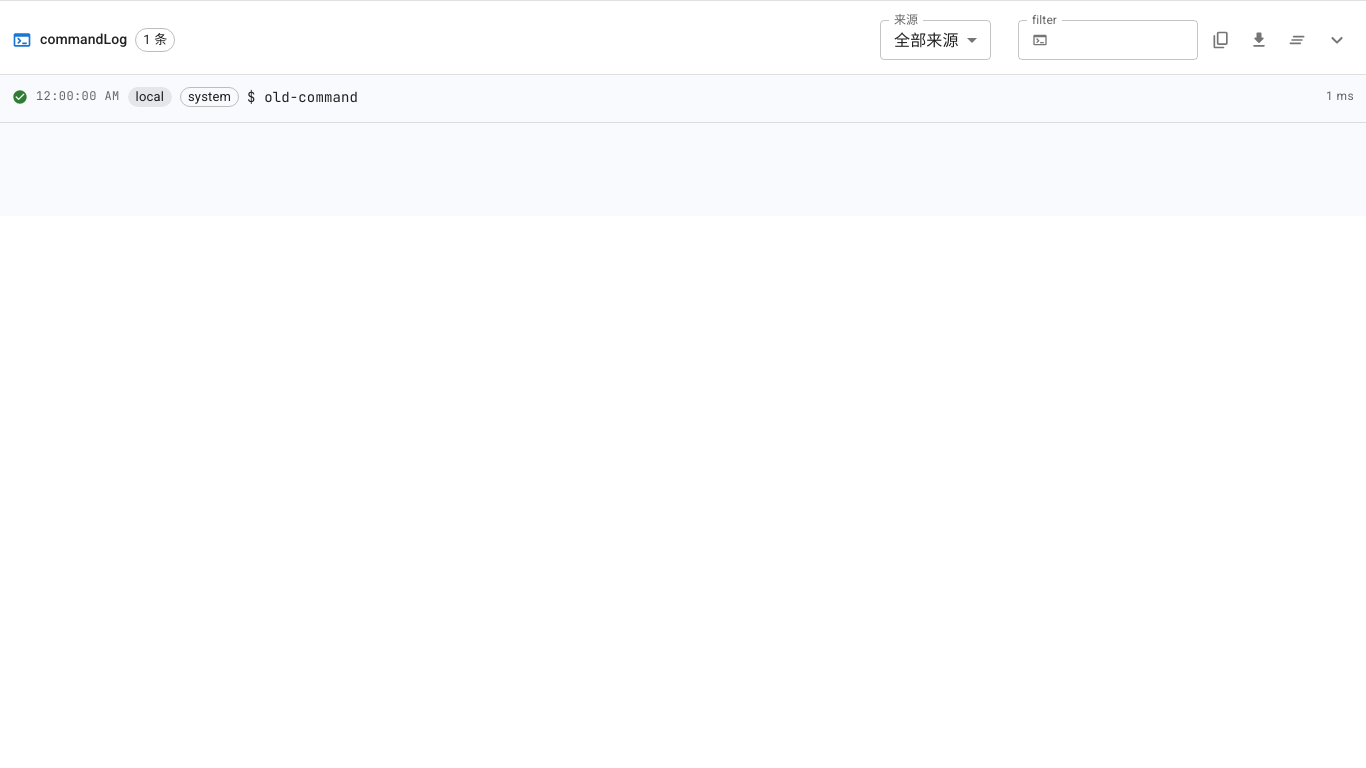
it: command details › shows a failed clear inside the confirmation dialog and retains history
Click the button named "永久清空": click(1297, 40) [1282, 25, 1312, 55]
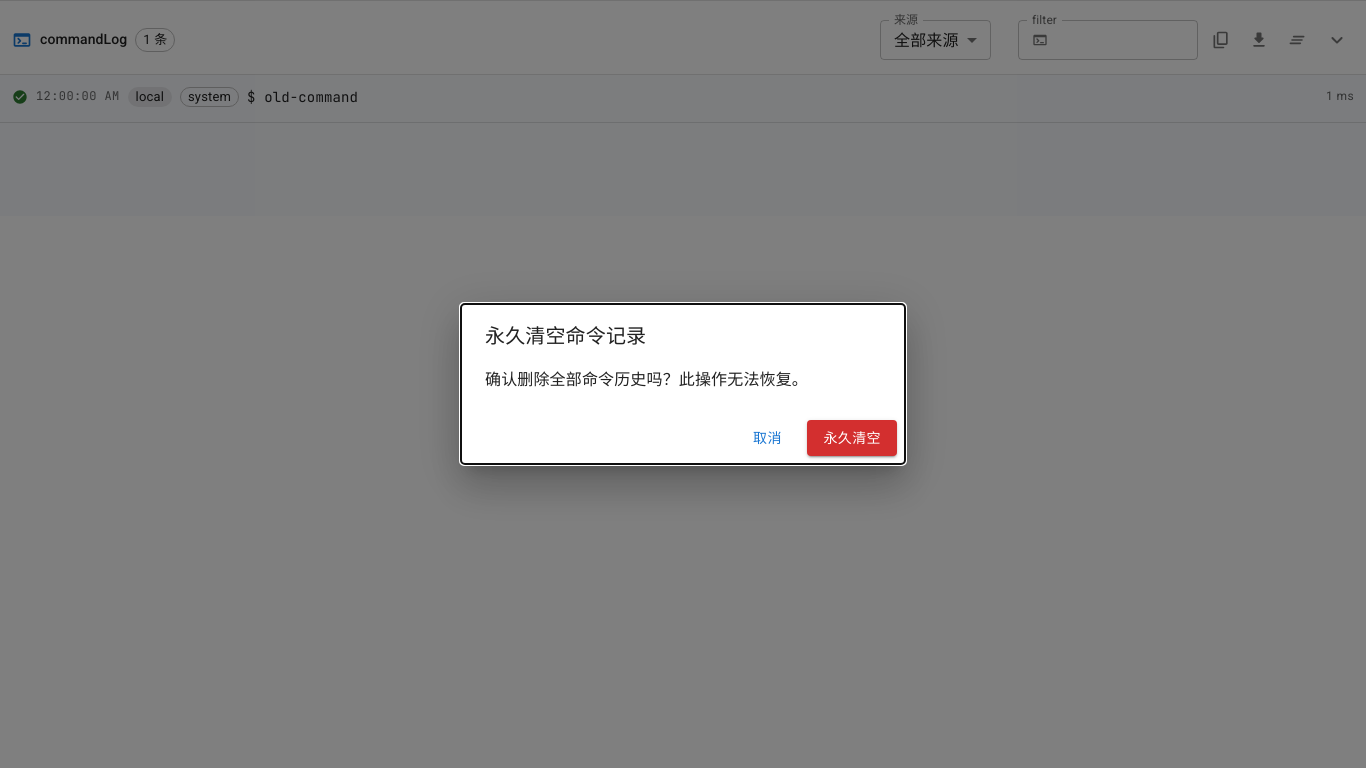
Click the button "永久清空": click(852, 438) [807, 420, 897, 456]
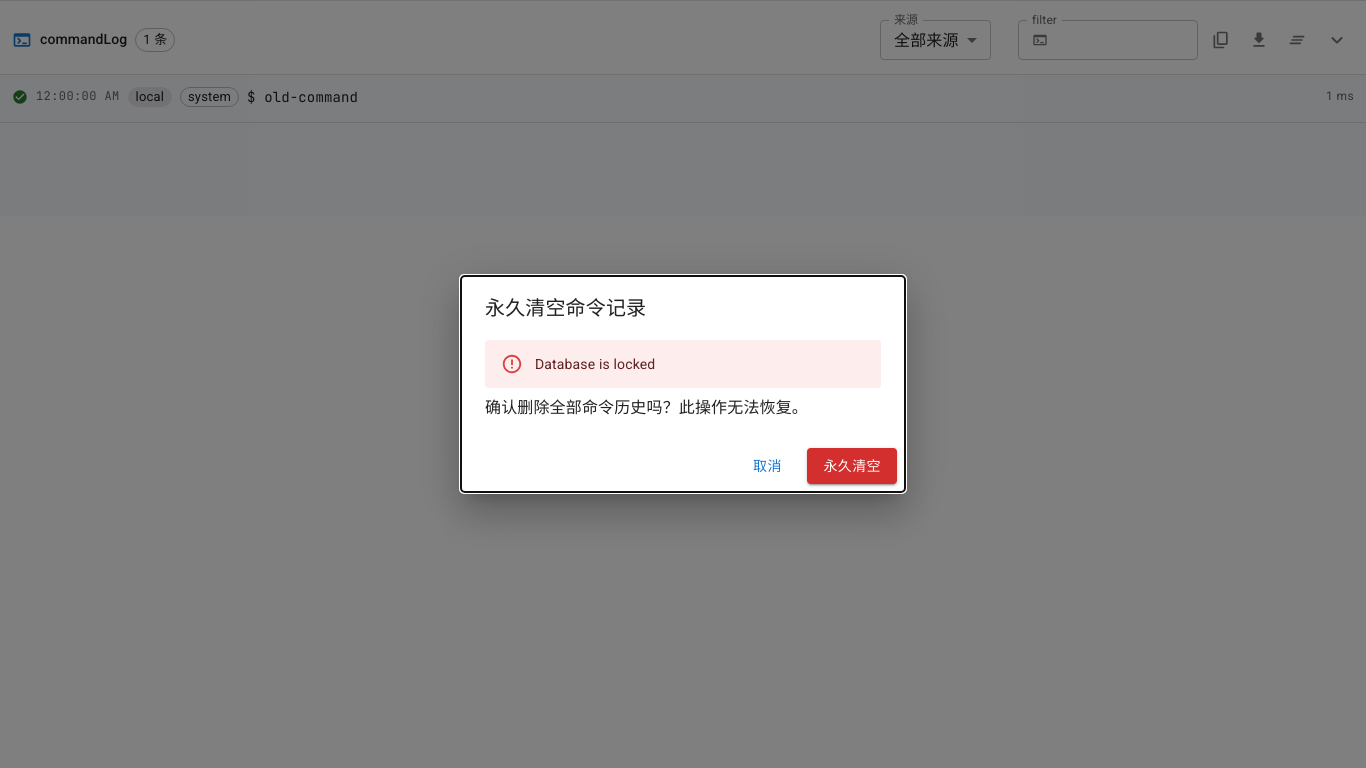
Expected: the message reads "Database is locked", [535, 356, 655, 372]
